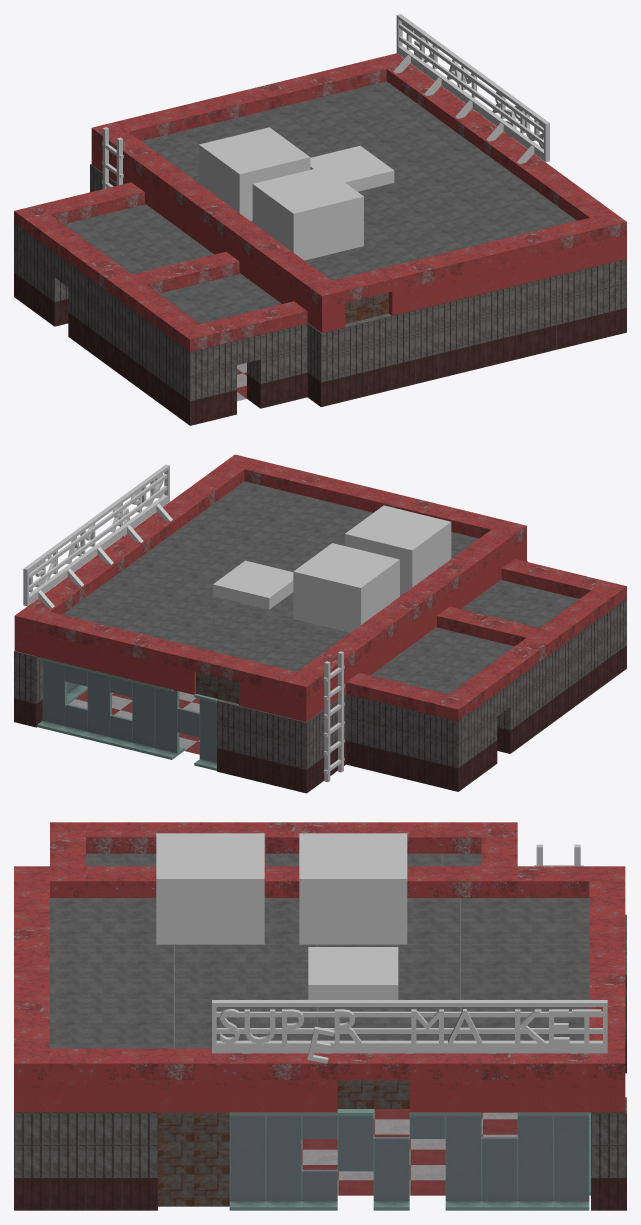
Rendered from Market.fbx.
3 views of the same model, one above another, from view 1: azimuth 30°, elevation 25°; view 2: azimuth 150°, elevation 25°; view 3: azimuth 270°, elevation 25° (orthographic). The views are drawn at different scales.
Visible parts, largest first — view 1: MarketBuildingBase, PreRoofPart, RoofProps, MarketMetalParts; view 2: MarketBuildingBase, PreRoofPart, RoofProps, WindowPanel1, WindowPanel2, WindowPanel3, MarketMetalParts; view 3: MarketBuildingBase, PreRoofPart, RoofProps, WindowPanel1, MarketMetalParts, WindowPanel2, WindowPanel3.
Boxes of the visible parts, box(x1,y1,x2,y2) form: MarketBuildingBase: box(14, 81, 626, 425); PreRoofPart: box(14, 53, 626, 351); RoofProps: box(102, 14, 549, 260); MarketMetalParts: box(345, 292, 388, 323); MarketBuildingBase: box(14, 481, 626, 793); PreRoofPart: box(14, 454, 626, 721); RoofProps: box(23, 464, 451, 782); WindowPanel1: box(37, 656, 218, 770); WindowPanel2: box(43, 671, 216, 762); WindowPanel3: box(66, 666, 216, 736); MarketMetalParts: box(196, 672, 238, 703); MarketBuildingBase: box(14, 853, 626, 1210); PreRoofPart: box(14, 822, 625, 1112); RoofProps: box(156, 833, 607, 1063); WindowPanel1: box(229, 1109, 590, 1210); MarketMetalParts: box(158, 1080, 409, 1206); WindowPanel2: box(230, 1112, 589, 1200); WindowPanel3: box(266, 1116, 552, 1200).
Bounding box in the file's own units: 1821 × 638 × 1717.
